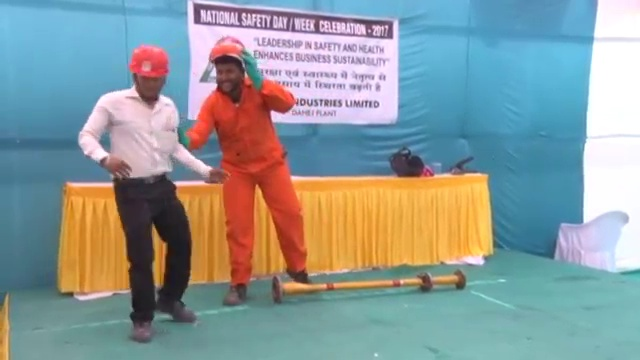helmet: (128, 43, 170, 79), (209, 35, 246, 63)
helmet_on: (126, 42, 170, 104), (208, 34, 248, 97)
person: (77, 42, 223, 344), (190, 34, 313, 298)
